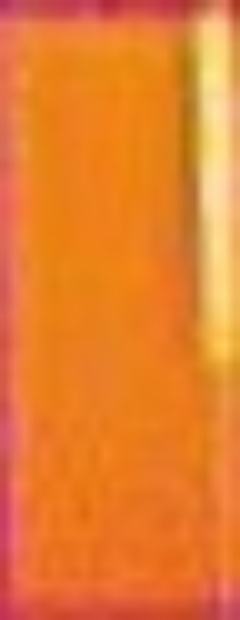Diode: (188, 2, 240, 371)
